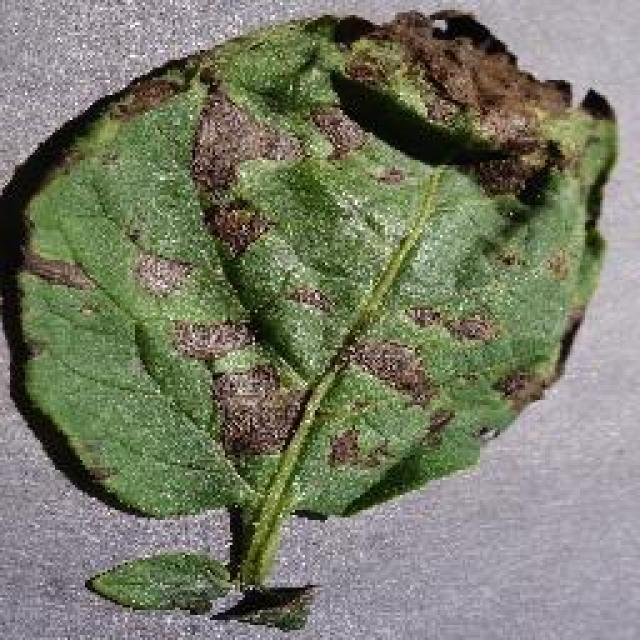early_blight: (0, 2, 622, 617)
